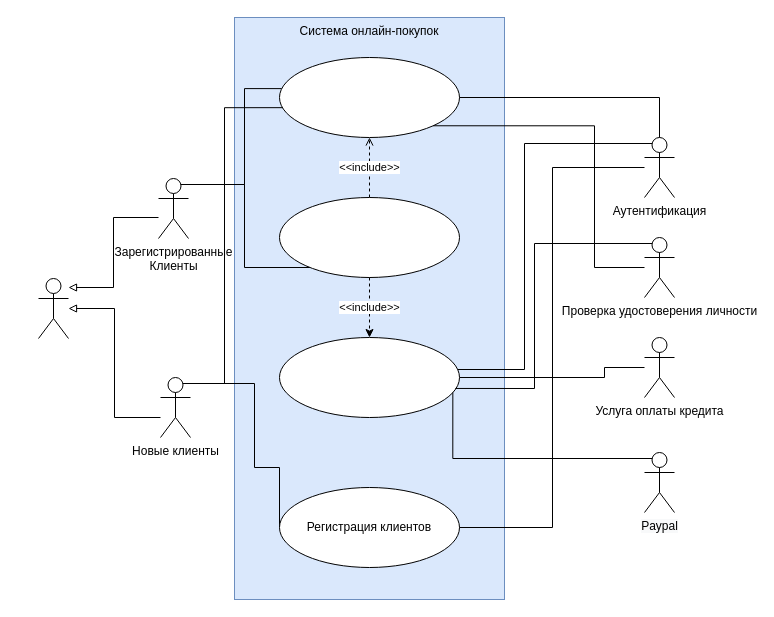
This 774x617 diagram has some shape labels left out. The centre of each missing label's shape, as x and y in pixels:
"Веб-клиенты" goes at (53,308).
"Закупки" goes at (369,237).
"Проверка товаров" goes at (369,377).
"Просмотр товаров" goes at (369,97).
